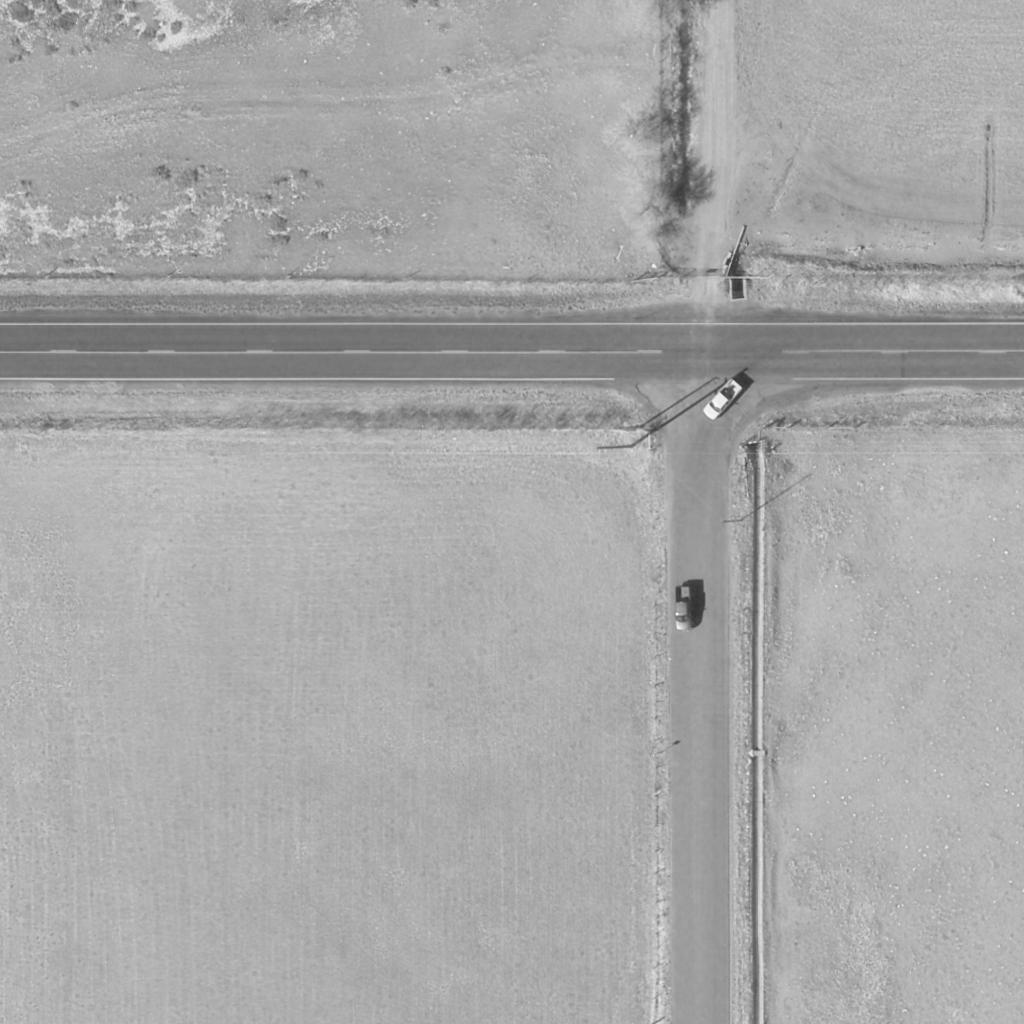vehicle: (701, 378, 747, 422), (674, 585, 694, 633)
